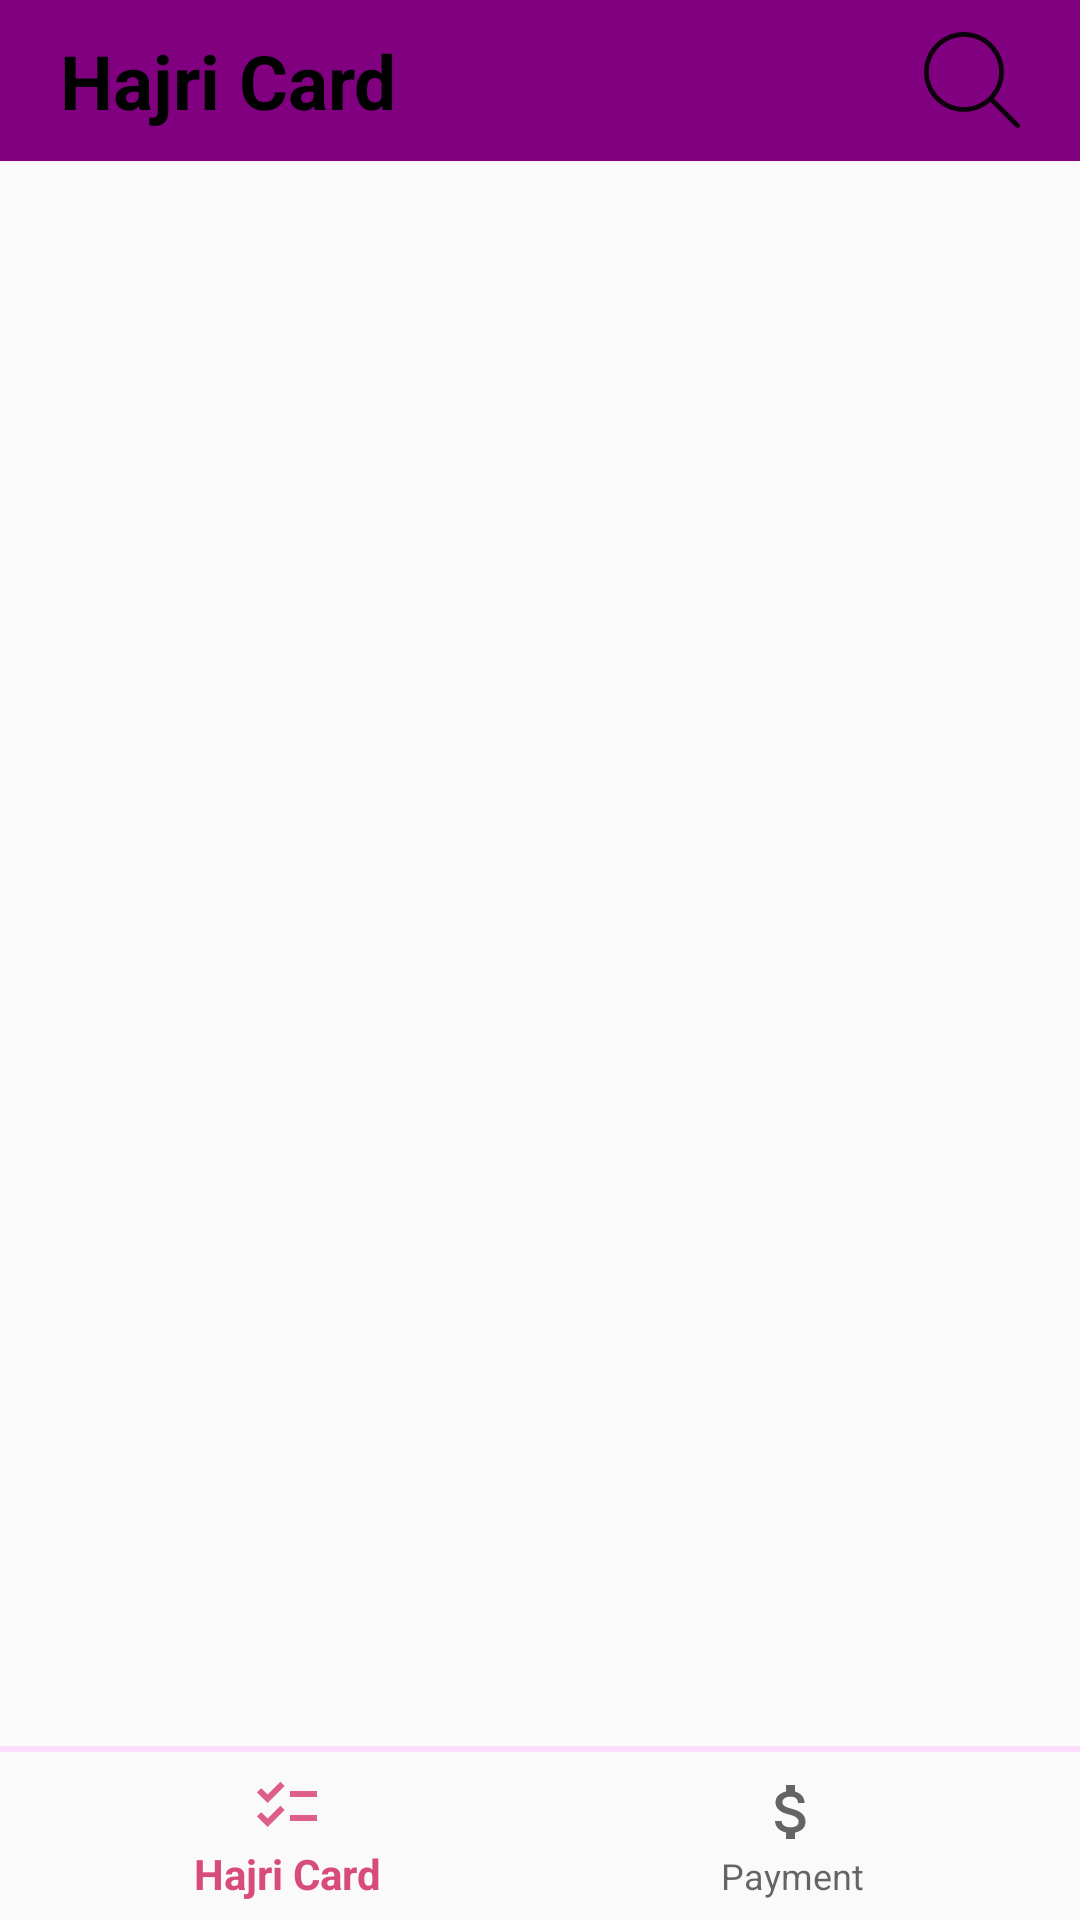

Icons on this 1080px x 1920px Android screen, each with the point to tap as point (x, y):
search: point (972, 80)
